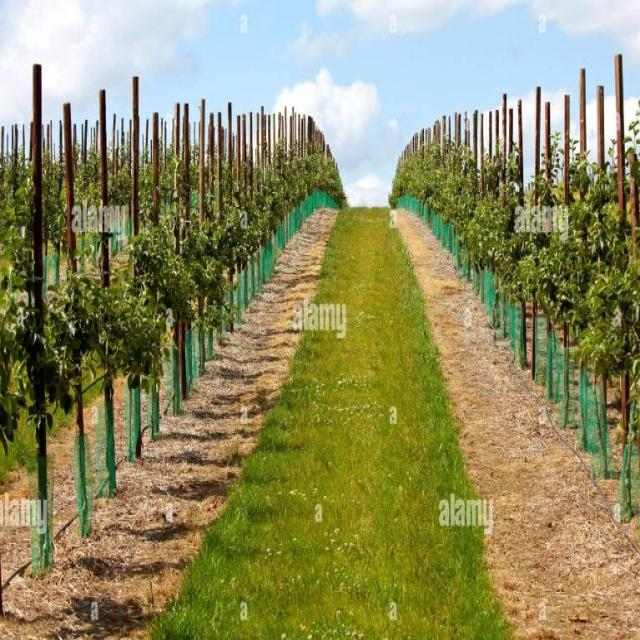row: (1, 202, 640, 640)
